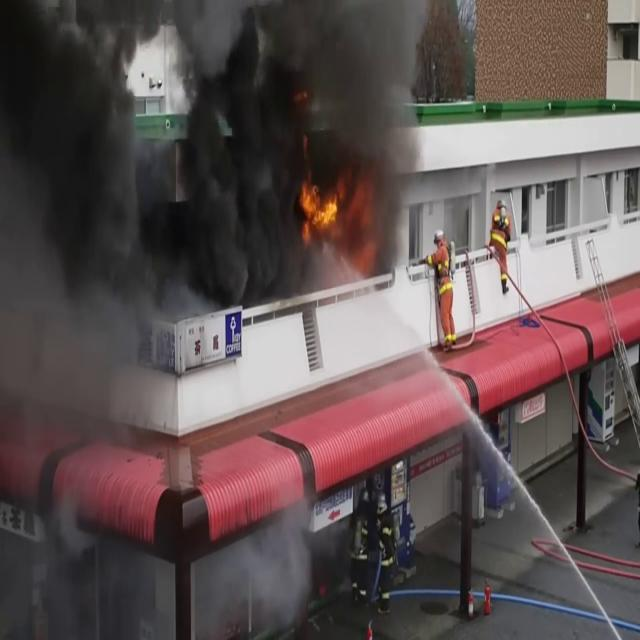Fire: (298, 173, 342, 240)
Smoke: (0, 0, 431, 324)
